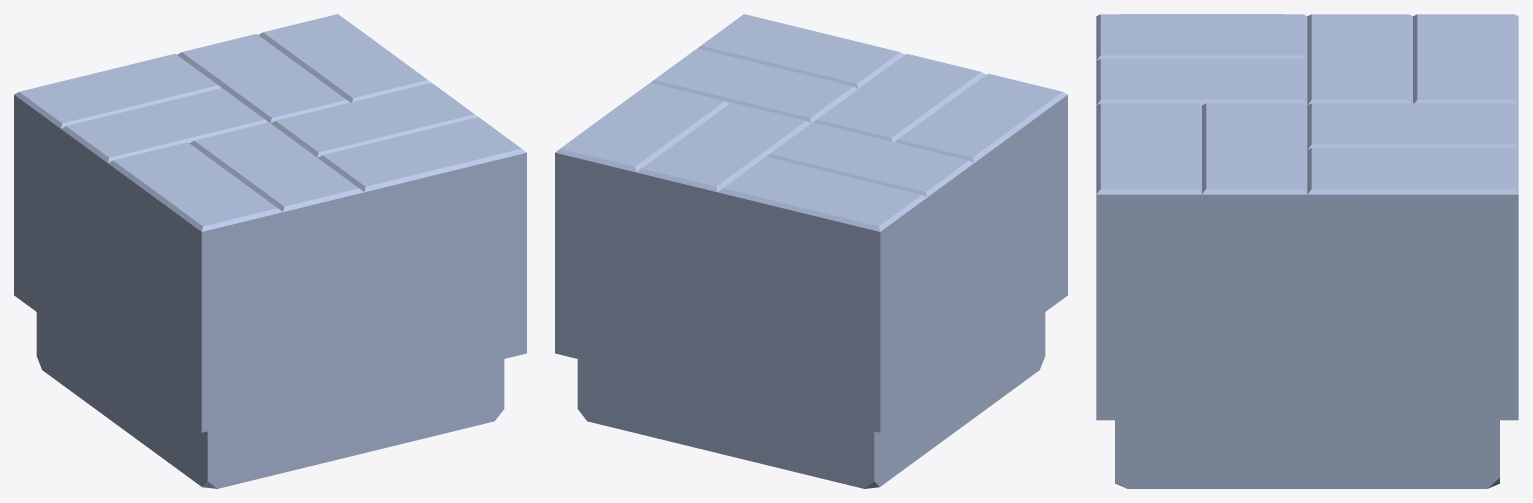
File: Floor002_Ceiling002.fbx
The picture shows the model from 3 angles, left to right: view 1: azimuth 30°, elevation 25°; view 2: azimuth 150°, elevation 25°; view 3: azimuth 270°, elevation 25°; orthographic projection. The views are drawn at different scales.
Parts seen in each view (by area): view 1: Cube.017; view 2: Cube.017; view 3: Cube.017.
Boxes of the visible parts, left/top/right/bottom form: Cube.017: left=14, top=14, right=526, bottom=488; Cube.017: left=555, top=14, right=1067, bottom=488; Cube.017: left=1096, top=14, right=1518, bottom=488.
Size of the model in its own units: 100 by 80.05 by 100.
